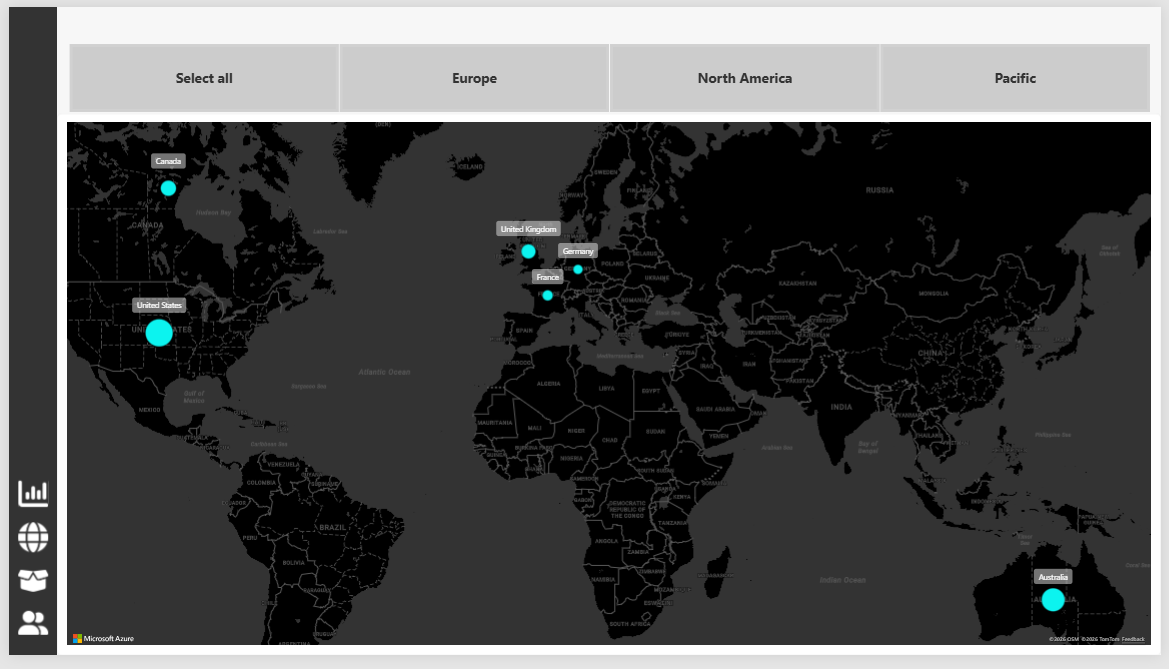

The dashboard page shown, as its layout file describes it:
{"tool":"powerbi","page":{"name":"Map","canvas":[1920,1080],"ordinal":1},"visuals":[{"type":"shape","box":[0,0,80,1080],"z":0},{"type":"actionButton","box":[0,774,80,72],"z":0,"group":"g1"},{"type":"azureMap","fields":{"Category":["Territory Lookup.Country"],"Size":["Measure Table.Total Orders"]},"box":[80,176.7,1840,903.3],"z":1000},{"type":"actionButton","box":[0,846,80,72],"z":1000,"group":"g1"},{"type":"slicer","fields":{"Values":["Territory Lookup.Continent"]},"box":[80,60,1840,116.7],"z":2000},{"type":"actionButton","box":[0,918,80,72],"z":2000,"group":"g1"},{"type":"group","id":"g1","title":"Navigation Buttons","box":[0,774,80,288],"z":3000},{"type":"actionButton","box":[0,990,80,72],"z":3000,"group":"g1"}]}

Visuals, with their boxes in screenshot pixels (x1, y1, x2, y2):
shape: x1=6 y1=15 x2=52 y2=641
actionButton: x1=6 y1=463 x2=52 y2=505
azureMap - Territory Lookup.Country x Measure Table.Total Orders: x1=52 y1=118 x2=1118 y2=641
actionButton: x1=6 y1=505 x2=52 y2=547
slicer - Territory Lookup.Continent: x1=52 y1=50 x2=1118 y2=118
actionButton: x1=6 y1=547 x2=52 y2=589
"Navigation Buttons" group: x1=6 y1=463 x2=52 y2=630
actionButton: x1=6 y1=589 x2=52 y2=630
